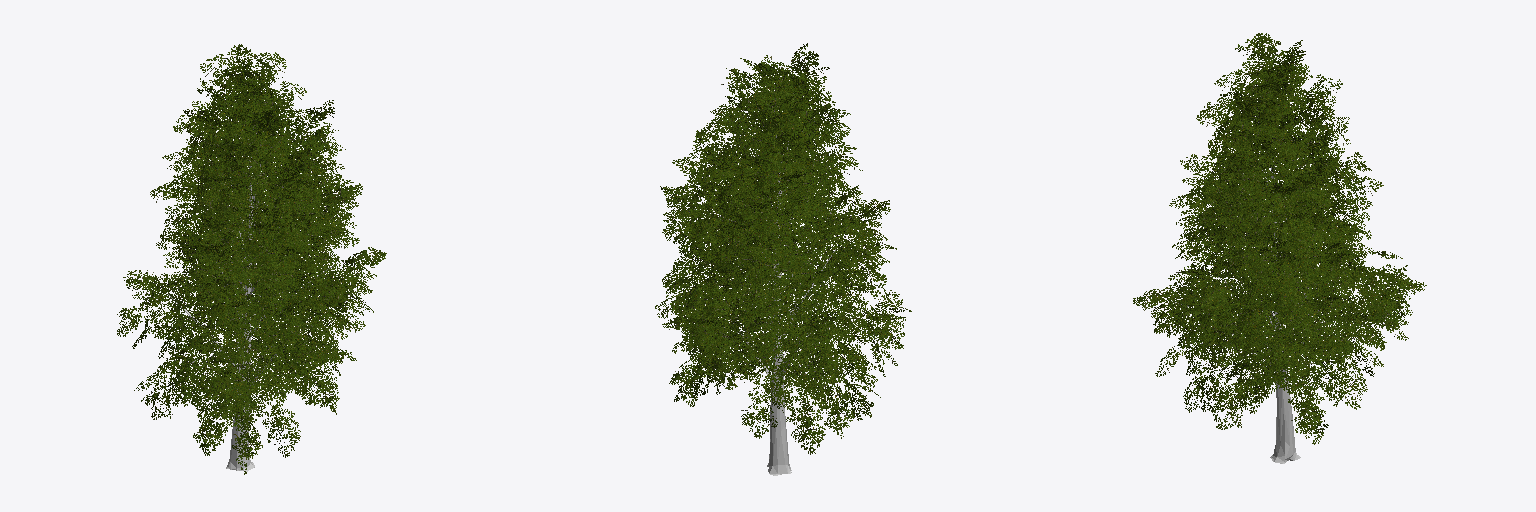
3 renders of one model, left to right at view 1: azimuth 30°, elevation 25°; view 2: azimuth 150°, elevation 25°; view 3: azimuth 270°, elevation 25°, orthographic.
Parts seen in each view (by area): view 1: Tree; view 2: Tree; view 3: Tree.
Part boxes in pixels (x1,y1,x2,y2): Tree: (117,44,386,474); Tree: (655,43,911,475); Tree: (1133,33,1426,463).
Bounding box in the file's own units: 4.24 × 7.59 × 4.99.
Materials: 2 (1 with a texture image).